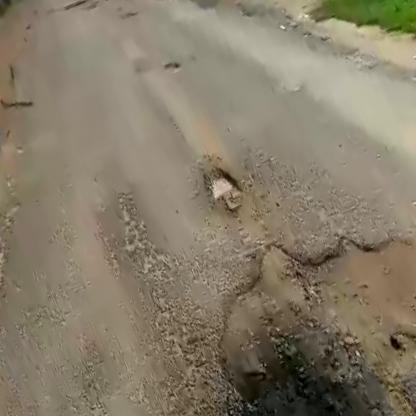pothole: (183, 149, 416, 416), (196, 160, 247, 216)
